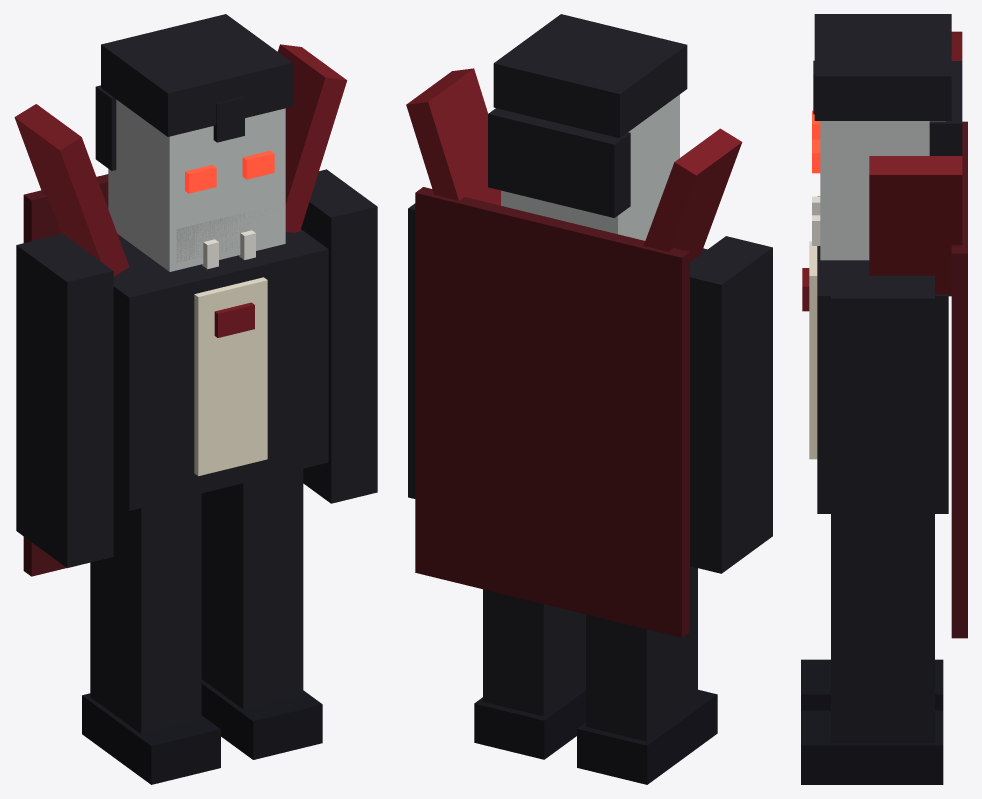
File: monsters__vampire.glb
3 renders of one model, left to right at view 1: azimuth 30°, elevation 25°; view 2: azimuth 150°, elevation 25°; view 3: azimuth 270°, elevation 25°, orthographic. The views are drawn at different scales.
Visible parts, largest first — view 1: monsters__vampire, rig_armL, rig_legL, rig_legR, rig_armR; view 2: monsters__vampire, rig_armL, rig_legL, rig_legR, rig_armR; view 3: monsters__vampire, rig_armR, rig_legR, rig_legL.
Boxes of the visible parts, x1,y1,x2,y2 form: monsters__vampire: [14, 14, 347, 576]; rig_armL: [16, 234, 113, 567]; rig_legL: [82, 493, 220, 784]; rig_legR: [201, 469, 322, 759]; rig_armR: [301, 169, 377, 503]; monsters__vampire: [406, 14, 742, 637]; rig_armL: [690, 236, 772, 573]; rig_legL: [577, 566, 717, 784]; rig_legR: [474, 589, 585, 759]; rig_armR: [408, 203, 415, 498]; monsters__vampire: [802, 14, 967, 638]; rig_armR: [831, 275, 934, 591]; rig_legR: [801, 591, 943, 784]; rig_legL: [801, 659, 943, 710].
Size of the model in its own units: 1.34 by 2.81 by 0.61.
